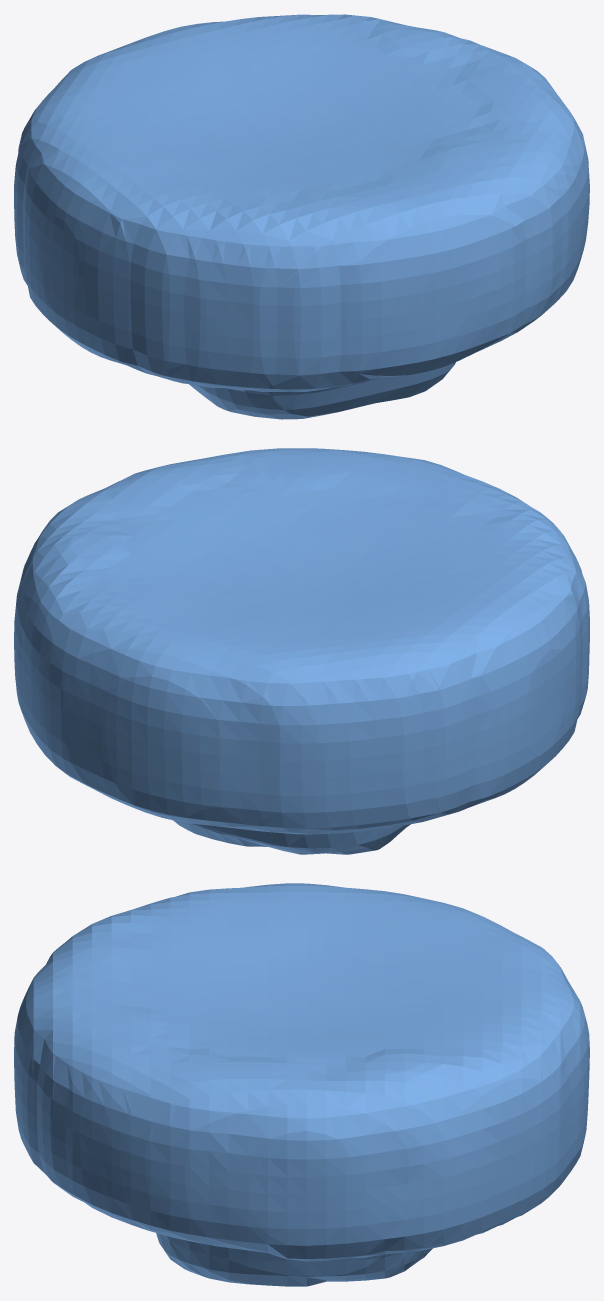
File: water_0004.glb
The picture shows the model from 3 angles, top to bottom: view 1: azimuth 30°, elevation 25°; view 2: azimuth 150°, elevation 25°; view 3: azimuth 270°, elevation 25°; orthographic projection.
Parts seen in each view (by area): view 1: Water_0004; view 2: Water_0004; view 3: Water_0004.
Part boxes in pixels (box(x1,y1,x2,y2)): Water_0004: box(14, 14, 589, 419); Water_0004: box(14, 448, 589, 854); Water_0004: box(14, 883, 589, 1286).
Size of the model in its own units: 1.72 by 0.8615 by 1.72.
